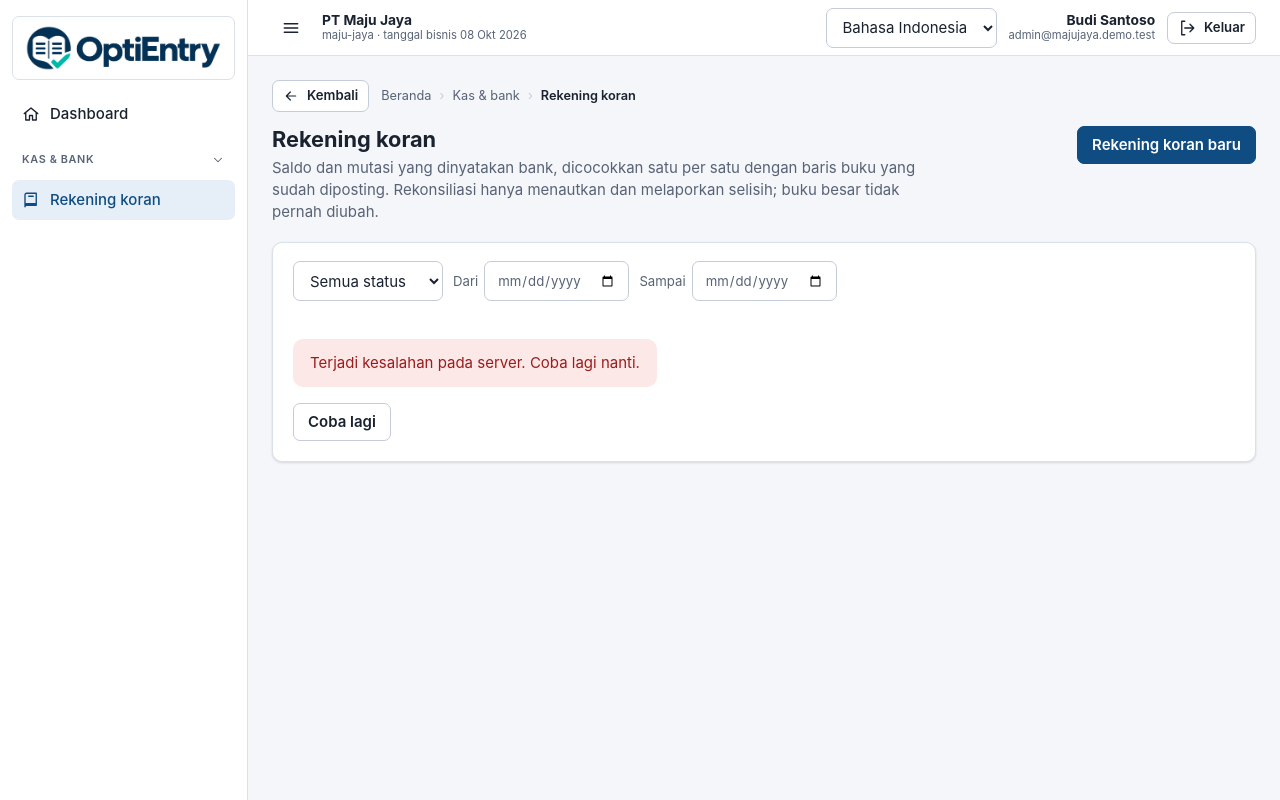
Test: bank statements list › shows an error with a retry, and the empty state
Expected: the text "Terjadi kesalahan pada server. Coba lagi nanti." is shown, [310,352,640,374]
Click the button "Coba lagi": (342, 422) [293,403,391,441]
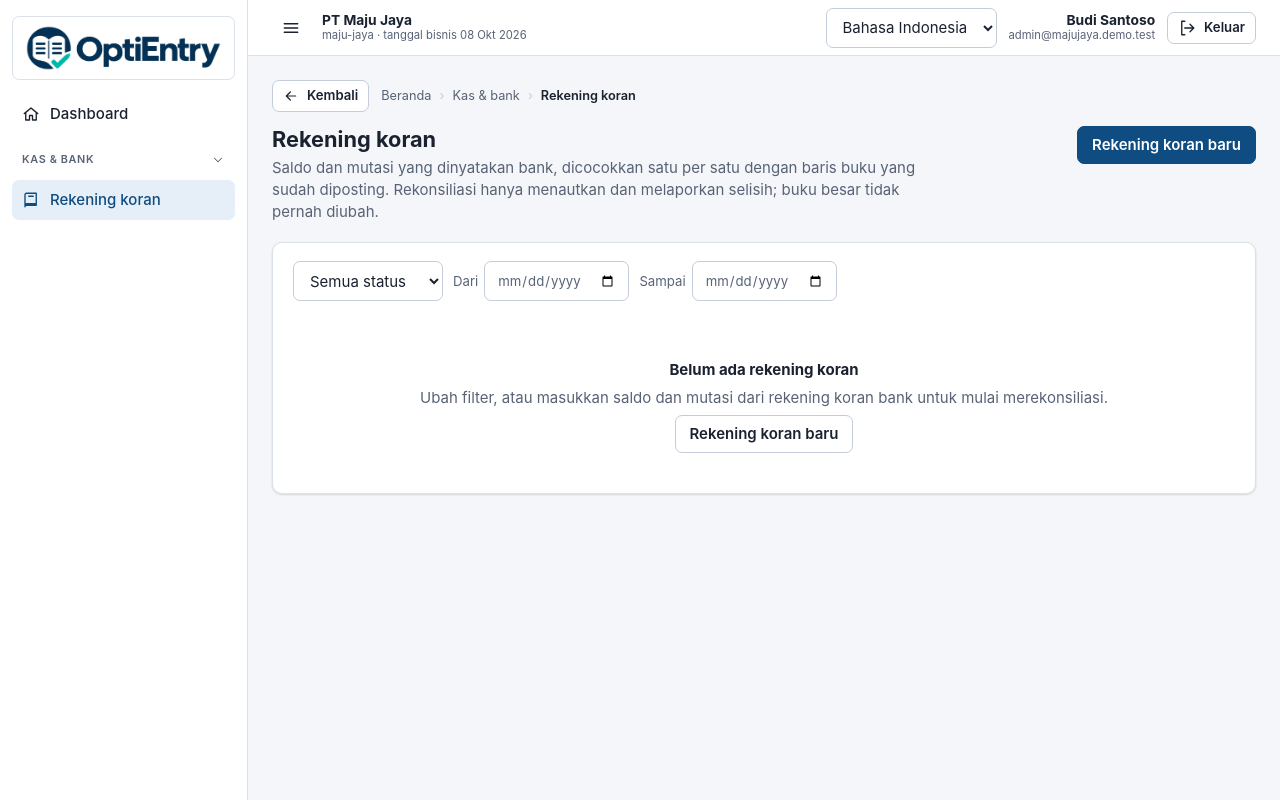
Result: the text "Belum ada rekening koran" is shown at [669,359,859,381]
